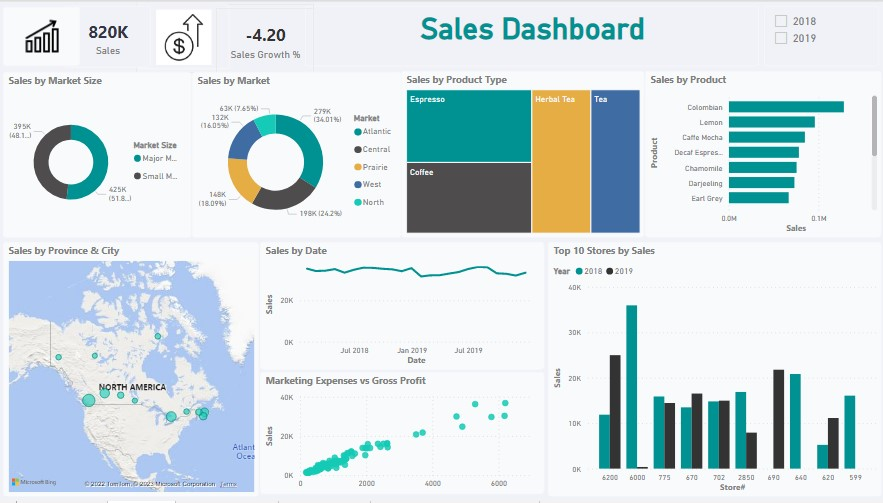

The dashboard page shown, as its layout file describes it:
{"tool":"powerbi","page":{"name":"Sales","canvas":[1280,720],"ordinal":1},"visuals":[{"type":"textbox","box":[443,5.8,655.1,86.6],"z":0},{"type":"clusteredColumnChart","title":"Top 10 Stores by Sales","fields":{"Category":["Sheet1.Store#"],"Y":["Sum(Sheet1.Sales)"],"Series":["Sheet1.Year"]},"box":[793.4,345.6,481,367.2],"z":1000},{"type":"slicer","fields":{"Values":["Sheet1.Year"]},"box":[1105.3,5.8,165.9,86.6],"z":2000},{"type":"group","id":"g1","title":"Group 3","box":[7.2,5.8,212.1,89.5],"z":3000},{"type":"group","id":"g2","title":"Group 4","box":[199.1,2.4,256.8,99.6],"z":4000},{"type":"image","box":[7.2,7.3,111.4,85.1],"z":5000,"group":"g1"},{"type":"donutChart","fields":{"Category":["Sheet1.Market Size"],"Y":["Sum(Sheet1.Sales)"]},"box":[7.2,100.8,272.2,239],"z":5000},{"type":"card","fields":{"Values":["Sum(Sheet1.Sales)"]},"box":[95.2,5.8,124.6,89.5],"z":6000,"group":"g1"},{"type":"donutChart","fields":{"Y":["Sum(Sheet1.Sales)"],"Category":["Sheet1.Market"]},"box":[279.4,100.8,302.4,239],"z":6000},{"type":"image","box":[199.1,2.4,134.9,93.8],"z":7000,"group":"g2"},{"type":"treemap","fields":{"Group":["Sheet1.Product Type"],"Values":["Sum(Sheet1.Sales)"]},"box":[581.8,99.8,351.4,240.5],"z":7000},{"type":"card","fields":{"Values":["Sheet1.Growth %"]},"box":[314.9,8.3,140.8,93.8],"z":8000,"group":"g2"},{"type":"clusteredBarChart","fields":{"Category":["Sheet1.Product"],"Y":["Sum(Sheet1.Sales)"]},"box":[933.1,99.4,341.3,240.5],"z":8000},{"type":"lineChart","fields":{"Y":["Sum(Sheet1.Sales)"],"Category":["Sheet1.Date"]},"box":[378.7,345.6,410.4,184.3],"z":9000},{"type":"map","title":"Sales by Province & City","fields":{"Size":["Sum(Sheet1.Sales)"],"Category":["canadacities.province_name","canadacities.city"],"Y":["Avg(canadacities.lat)"],"X":["Avg(canadacities.lng)"]},"box":[7.2,345.6,368.6,367.2],"z":10000},{"type":"scatterChart","title":"Marketing Expenses vs Gross Profit ","fields":{"X":["Sum(Sheet1.Marketing Expenses)"],"Category":["Sheet1.Store#"],"Y":["Sum(Sheet1.Sales)"]},"box":[378.7,534.2,410.4,175.7],"z":11000}]}

Visuals, with their boxes in screenshot pixels (x1, y1, x2, y2), scaled from the page's 1280x720 canvas onto the 883x503 screenshot:
textbox: <box>306,4,758,65</box>
"Top 10 Stores by Sales" clusteredColumnChart: <box>547,241,879,498</box>
slicer - Sheet1.Year: <box>762,4,877,65</box>
"Group 3" group: <box>5,4,151,67</box>
"Group 4" group: <box>137,2,314,71</box>
image: <box>5,5,82,65</box>
donutChart - Sheet1.Market Size x Sum(Sheet1.Sales): <box>5,70,193,237</box>
card - Sum(Sheet1.Sales): <box>66,4,152,67</box>
donutChart - Sum(Sheet1.Sales) x Sheet1.Market: <box>193,70,401,237</box>
image: <box>137,2,230,67</box>
treemap - Sheet1.Product Type x Sum(Sheet1.Sales): <box>401,70,644,238</box>
card - Sheet1.Growth %: <box>217,6,314,71</box>
clusteredBarChart - Sheet1.Product x Sum(Sheet1.Sales): <box>644,69,879,237</box>
lineChart - Sum(Sheet1.Sales) x Sheet1.Date: <box>261,241,544,370</box>
"Sales by Province & City" map: <box>5,241,259,498</box>
"Marketing Expenses vs Gross Profit " scatterChart: <box>261,373,544,496</box>
